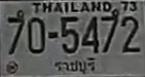0: (27, 16, 44, 53)
2: (121, 14, 139, 51)
4: (81, 15, 98, 52)
5: (60, 15, 78, 52)
7: (7, 17, 26, 54), (100, 14, 118, 53)
RBR: (50, 56, 97, 74)
